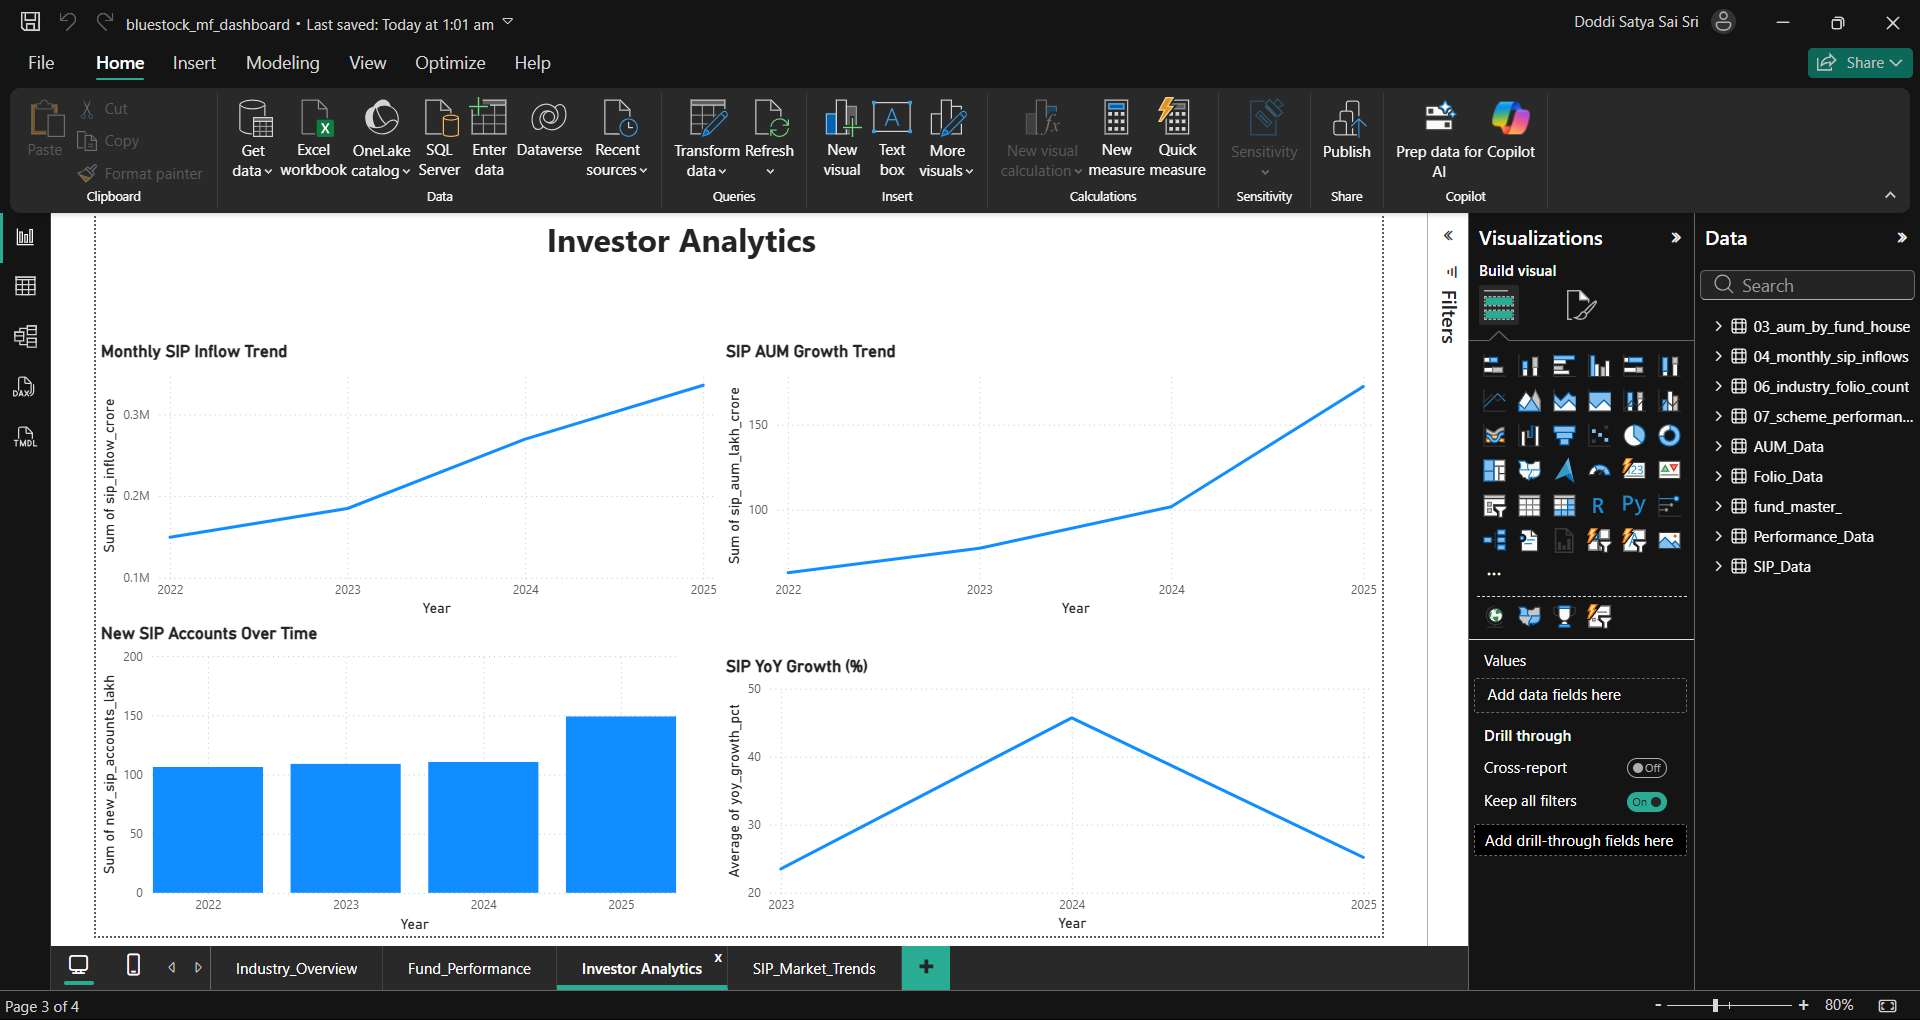

This screenshot's page, from the dashboard's own definition file:
{"tool":"powerbi","page":{"name":"Investor Analytics","canvas":[1280,720],"ordinal":2},"visuals":[{"type":"lineChart","title":"Monthly SIP Inflow Trend","fields":{"Category":["SIP_Data.month.Variation.Date Hierarchy.Year","SIP_Data.month.Variation.Date Hierarchy.Quarter","SIP_Data.month.Variation.Date Hierarchy.Month","SIP_Data.month.Variation.Date Hierarchy.Day"],"Y":["Sum(SIP_Data.sip_inflow_crore)"]},"box":[0,127.5,622.5,280],"z":0},{"type":"lineChart","title":"SIP AUM Growth Trend","fields":{"Category":["SIP_Data.month.Variation.Date Hierarchy.Year","SIP_Data.month.Variation.Date Hierarchy.Quarter","SIP_Data.month.Variation.Date Hierarchy.Month","SIP_Data.month.Variation.Date Hierarchy.Day"],"Y":["Sum(SIP_Data.sip_aum_lakh_crore)"]},"box":[622.5,127.5,657.5,280],"z":1000},{"type":"clusteredColumnChart","title":"New SIP Accounts Over Time","fields":{"Category":["SIP_Data.month.Variation.Date Hierarchy.Year","SIP_Data.month.Variation.Date Hierarchy.Quarter","SIP_Data.month.Variation.Date Hierarchy.Month","SIP_Data.month.Variation.Date Hierarchy.Day"],"Y":["Sum(SIP_Data.new_sip_accounts_lakh)"]},"box":[0,407.5,582.5,312.5],"z":2000},{"type":"lineChart","title":"SIP YoY Growth (%)","fields":{"Category":["SIP_Data.month.Variation.Date Hierarchy.Year","SIP_Data.month.Variation.Date Hierarchy.Quarter","SIP_Data.month.Variation.Date Hierarchy.Month","SIP_Data.month.Variation.Date Hierarchy.Day"],"Y":["Avg(SIP_Data.yoy_growth_pct)"]},"box":[622.5,440,657.5,280],"z":3000},{"type":"textbox","box":[0,0,1165,97.5],"z":4000}]}

Visuals, with their boxes on the page's 1280x720 design canvas (x1, y1, x2, y2). These are canvas units, not pixel positions in the 1920x1020 screenshot, which may show the page scaled, cropped or inside an application window:
"Monthly SIP Inflow Trend" lineChart: (0, 128, 622, 408)
"SIP AUM Growth Trend" lineChart: (622, 128, 1280, 408)
"New SIP Accounts Over Time" clusteredColumnChart: (0, 408, 582, 720)
"SIP YoY Growth (%)" lineChart: (622, 440, 1280, 720)
textbox: (0, 0, 1165, 98)
